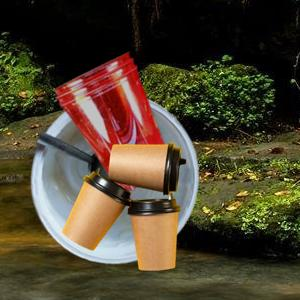cup: (61, 175, 129, 250), (128, 200, 182, 271)
